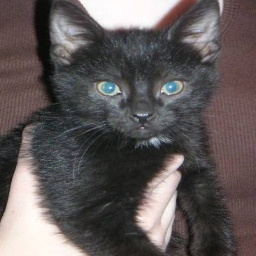cat: (31, 3, 237, 256)
